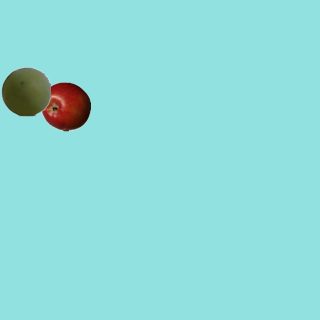Apple Braeburn: (40, 81, 90, 131)
Grape White 4: (0, 66, 50, 116)
